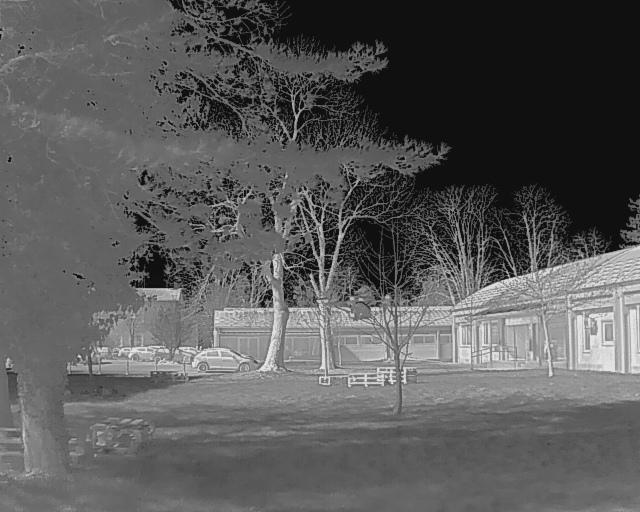drone: (307, 290, 392, 328)
